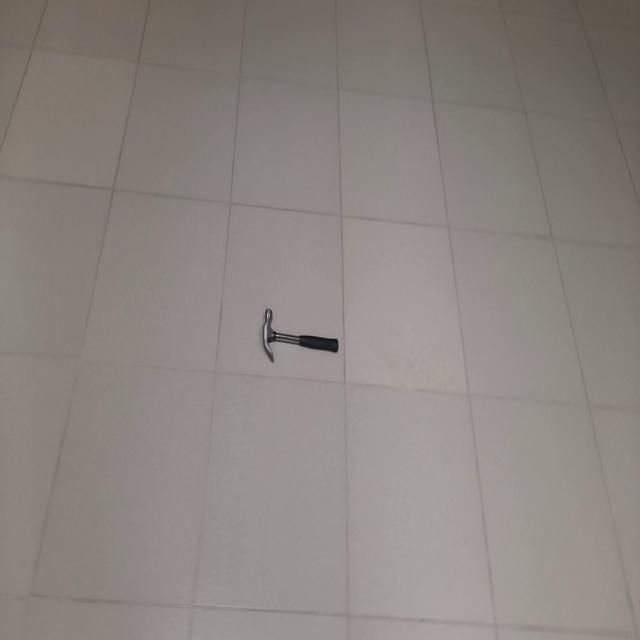hammer: (262, 308, 340, 363)
